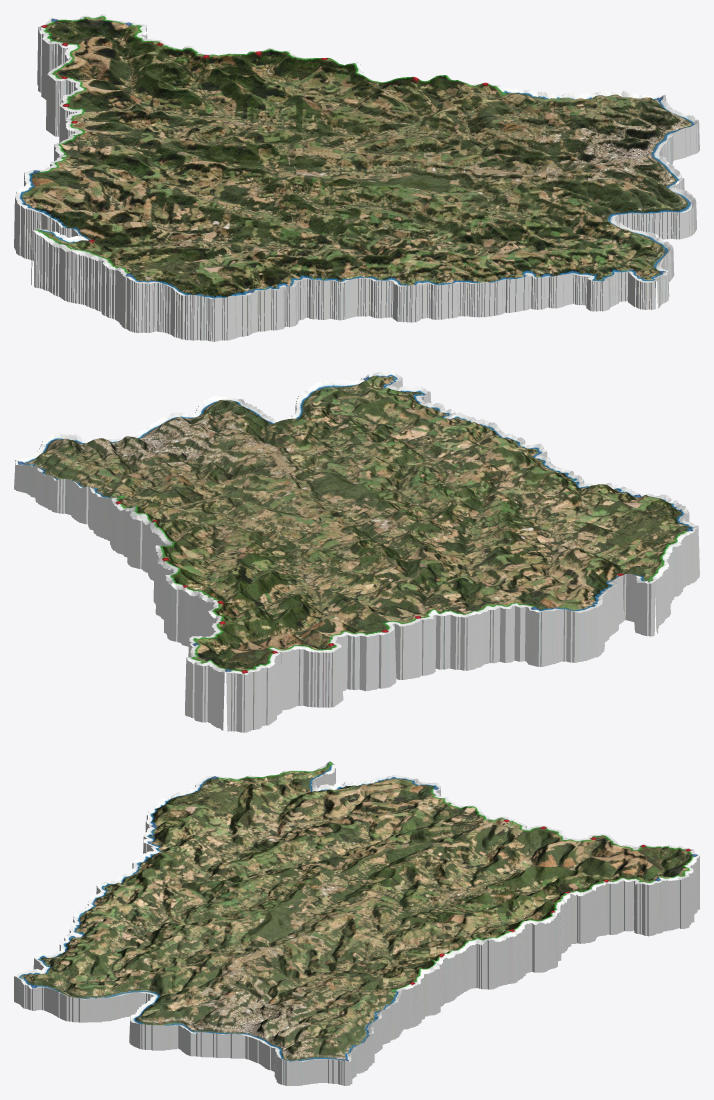
3 renders of one model, top to bottom at view 1: azimuth 30°, elevation 25°; view 2: azimuth 150°, elevation 25°; view 3: azimuth 270°, elevation 25°, orthographic. The views are drawn at different scales.
Bounding box in the file's own units: 0.9998 × 0.0913 × 1.05.
Materials: 1 (1 with a texture image).
